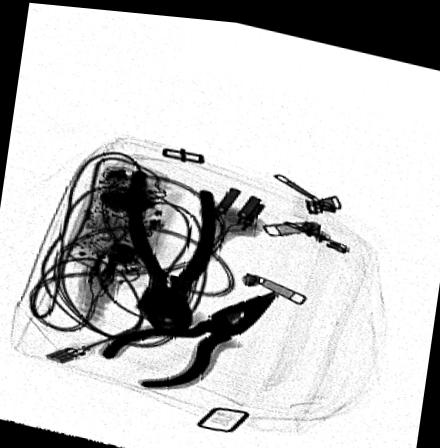Pliers: (96, 282, 284, 389), (118, 162, 225, 336)
